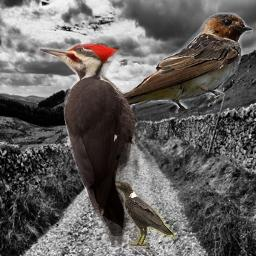Crow: (112, 180, 175, 247)
Swallow: (106, 11, 253, 118)
Woodpecker: (35, 43, 143, 247)
